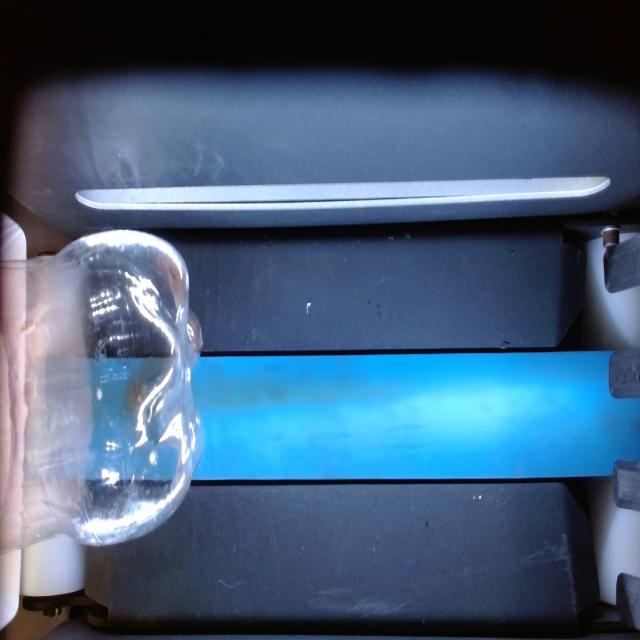bottom: (0, 231, 202, 552)
